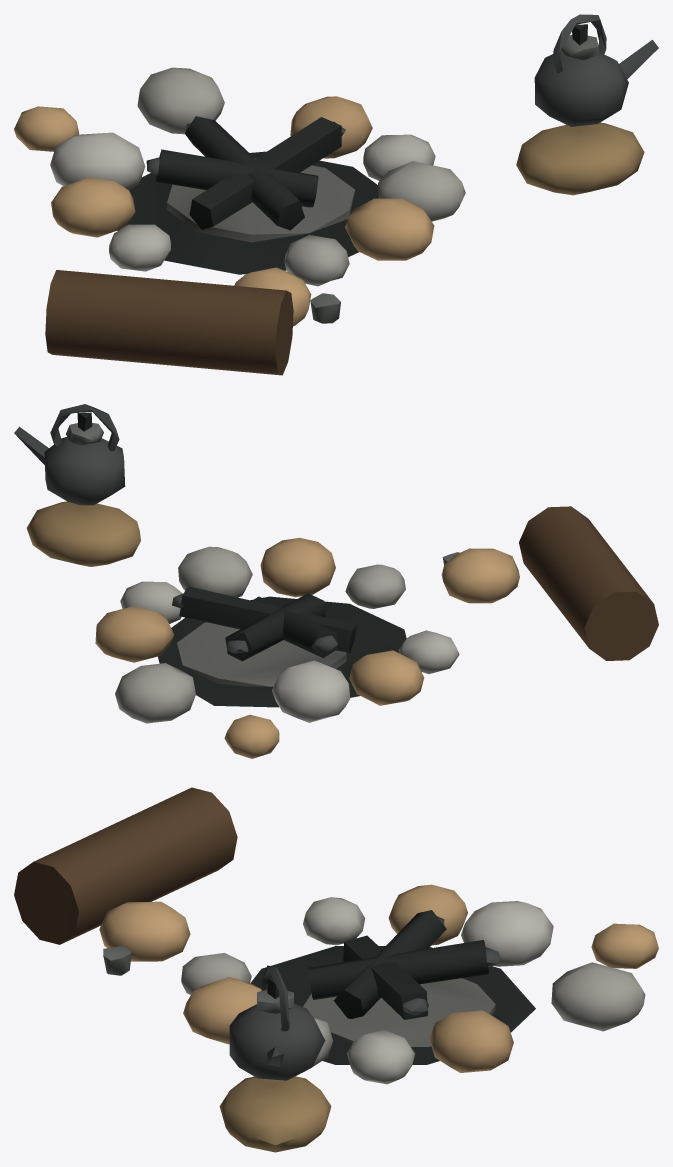
Rendered from cold_campfire_b_lod1.glb.
3 views of the same model, one above another, from view 1: azimuth 30°, elevation 25°; view 2: azimuth 150°, elevation 25°; view 3: azimuth 270°, elevation 25° (orthographic). The views are drawn at different scales.
Parts seen in each view (by area): view 1: Surface.001; view 2: Surface.001; view 3: Surface.001.
Part boxes in pixels (box(x1,y1,x2,y2)): Surface.001: box(14, 14, 658, 375); Surface.001: box(14, 404, 658, 758); Surface.001: box(14, 787, 658, 1152).
Size of the model in its own units: 6.57 by 1.65 by 5.49.
